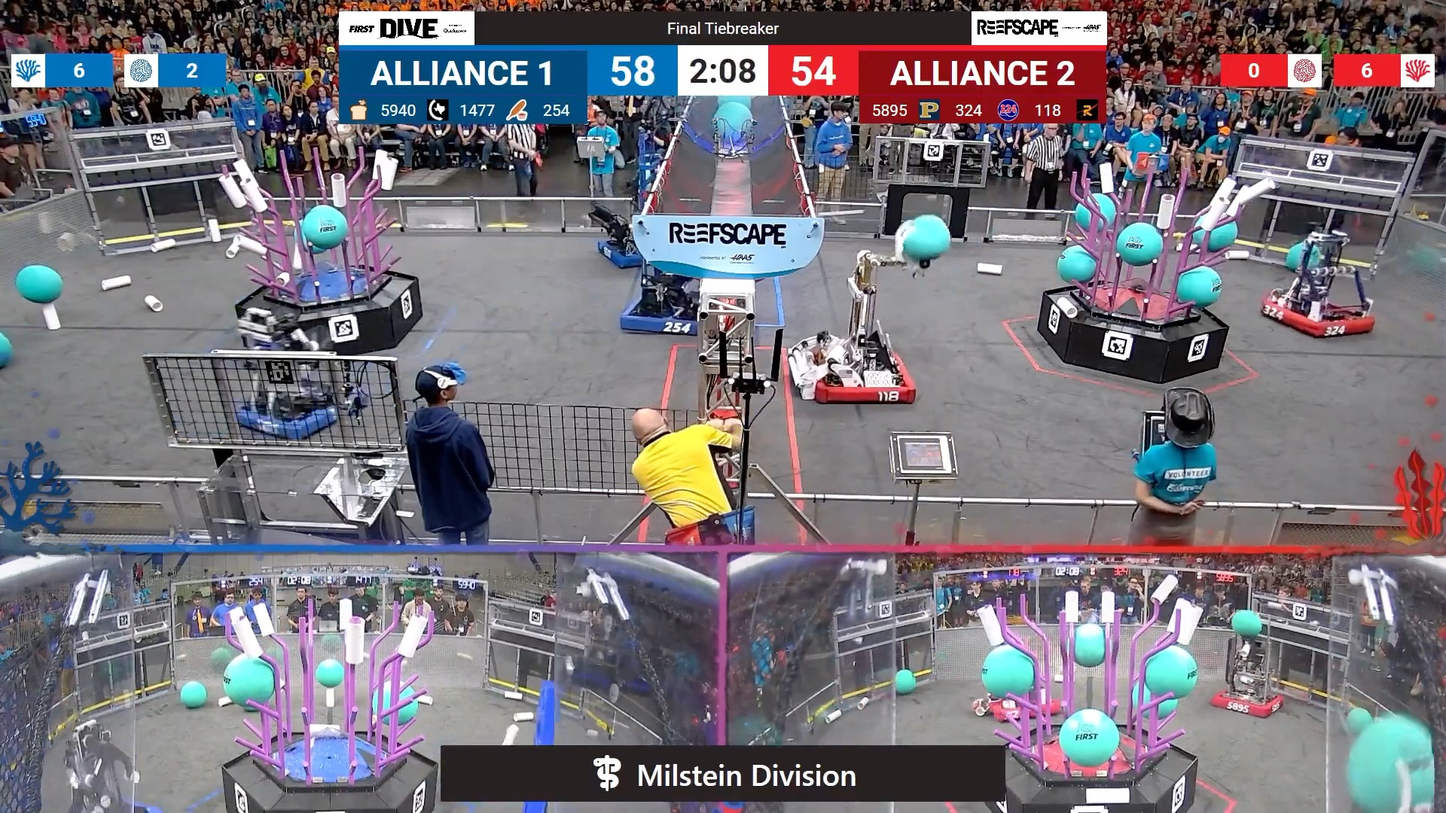bumpers: (799, 345, 925, 412), (1249, 291, 1375, 345), (228, 390, 353, 443), (618, 287, 706, 340), (1206, 687, 1292, 721), (589, 235, 665, 270)
